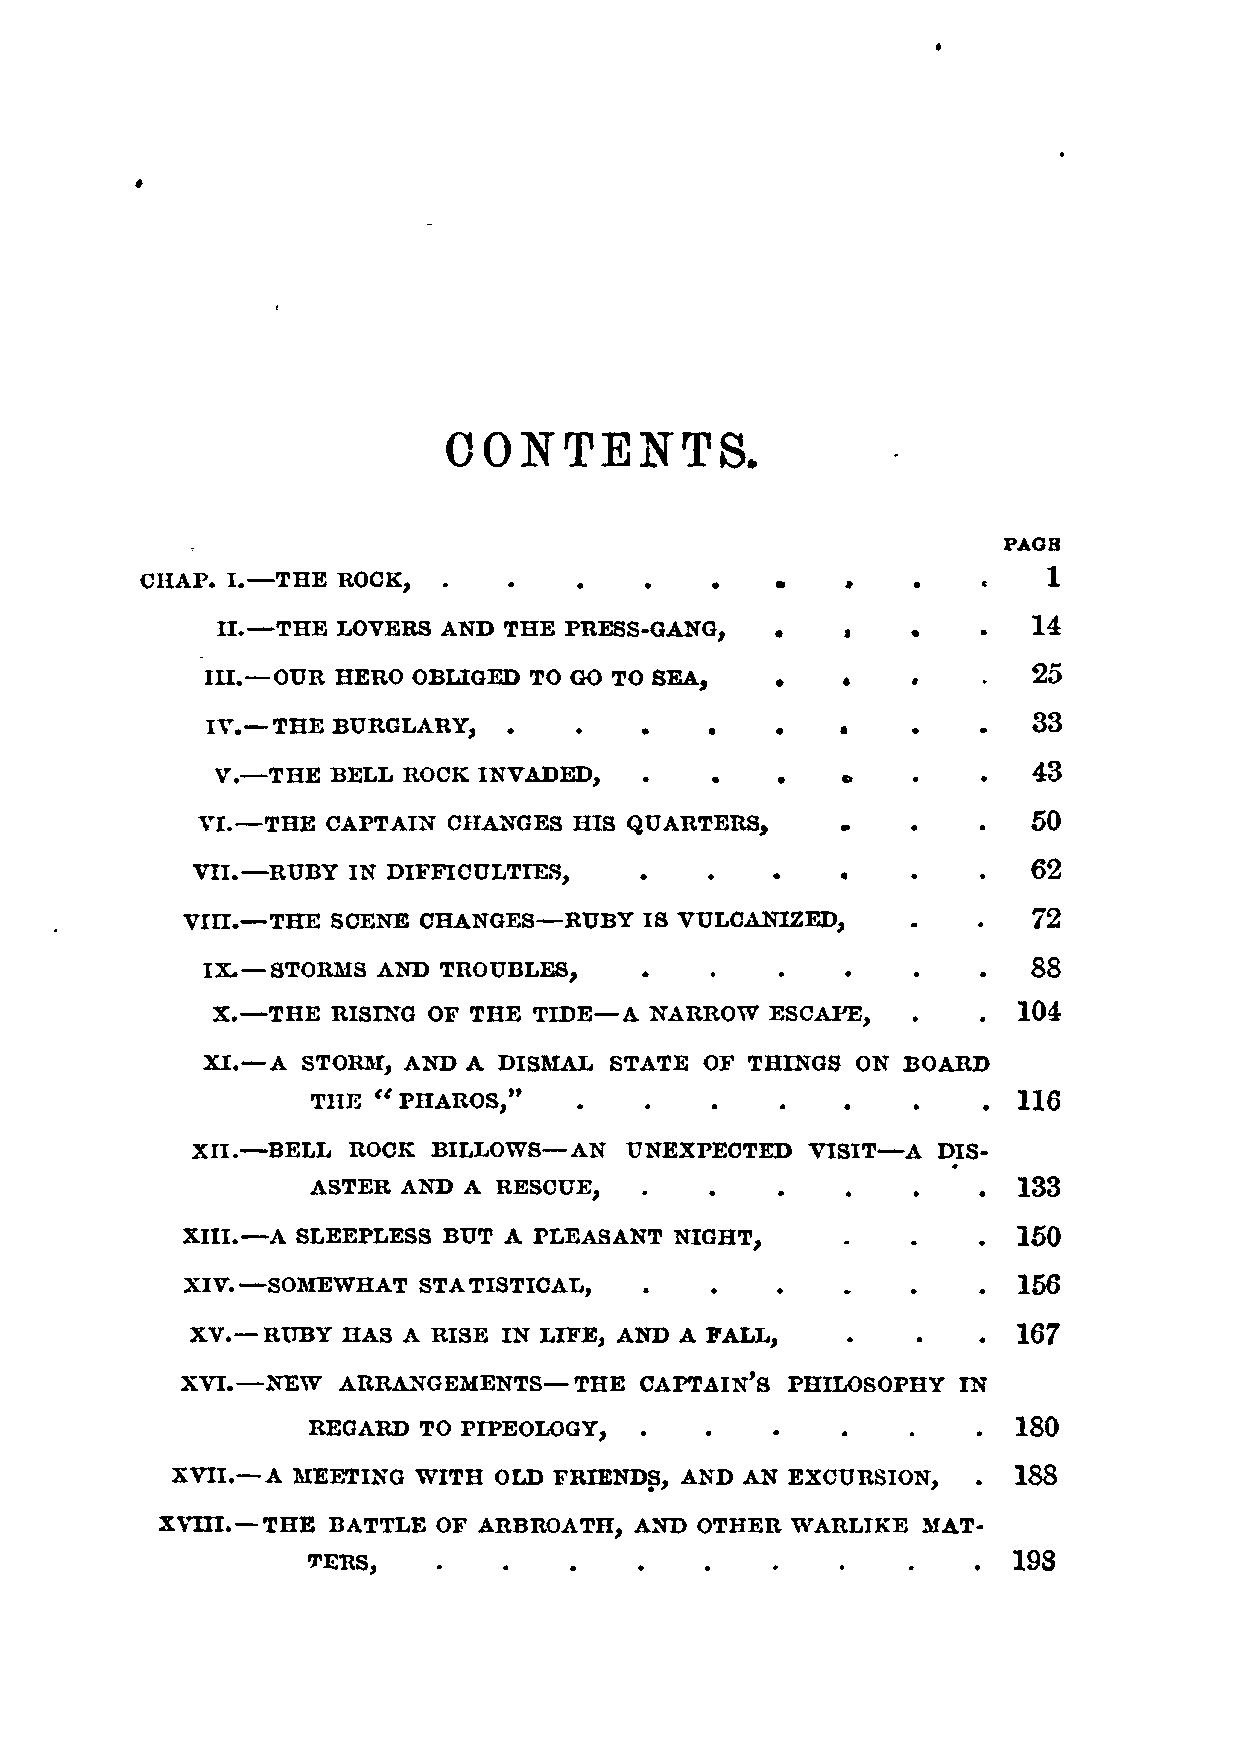TOC_chapter: (177, 1369, 986, 1440), (156, 1510, 986, 1576), (192, 1137, 990, 1202), (199, 1049, 994, 1111), (166, 1460, 939, 1492), (180, 1221, 762, 1257), (183, 1319, 782, 1347), (213, 1002, 874, 1028), (199, 663, 709, 695), (184, 909, 845, 933), (197, 811, 769, 837), (211, 613, 726, 641), (181, 1270, 596, 1296), (195, 954, 578, 982), (209, 762, 599, 788), (192, 859, 570, 884), (199, 714, 480, 735), (220, 564, 411, 595)
TOC_pagenumber: (1015, 1219, 1060, 1257), (1012, 1266, 1062, 1298), (1011, 1457, 1060, 1488), (1011, 1410, 1060, 1437), (1013, 1088, 1060, 1117), (1013, 996, 1060, 1023), (1011, 1546, 1057, 1571), (1013, 1173, 1060, 1197), (1011, 1322, 1060, 1345), (1031, 705, 1062, 739), (1031, 655, 1062, 687), (1028, 611, 1062, 640), (1028, 903, 1060, 933), (1027, 758, 1059, 786), (1028, 855, 1060, 883), (1028, 807, 1057, 833), (1028, 956, 1060, 978), (1041, 560, 1062, 592)
chapter: (442, 425, 754, 478)
